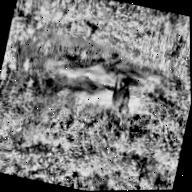boar: (95, 68, 141, 123)
